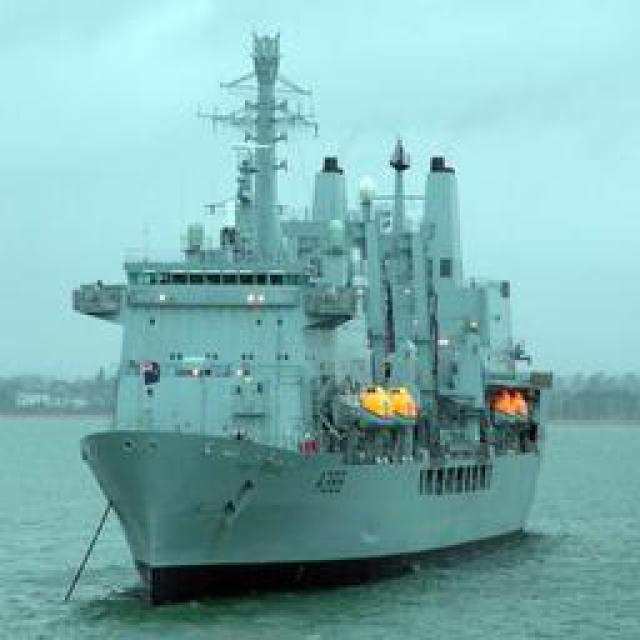Ship: (78, 22, 573, 595)
